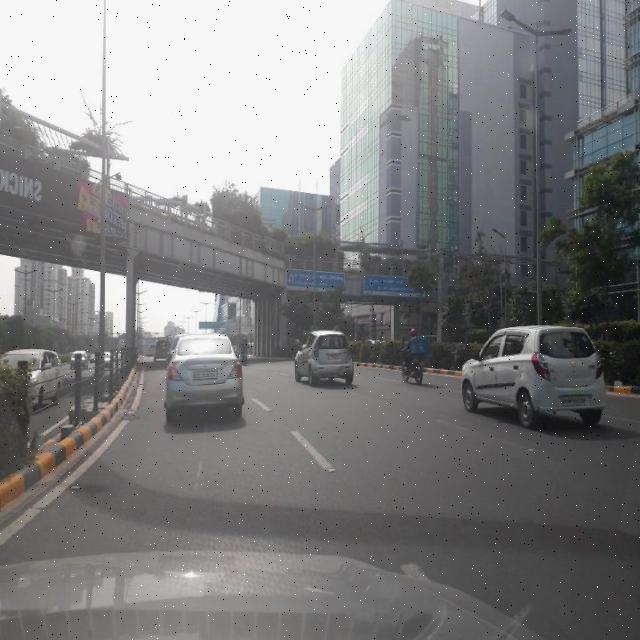D00: (182, 426, 222, 506)
